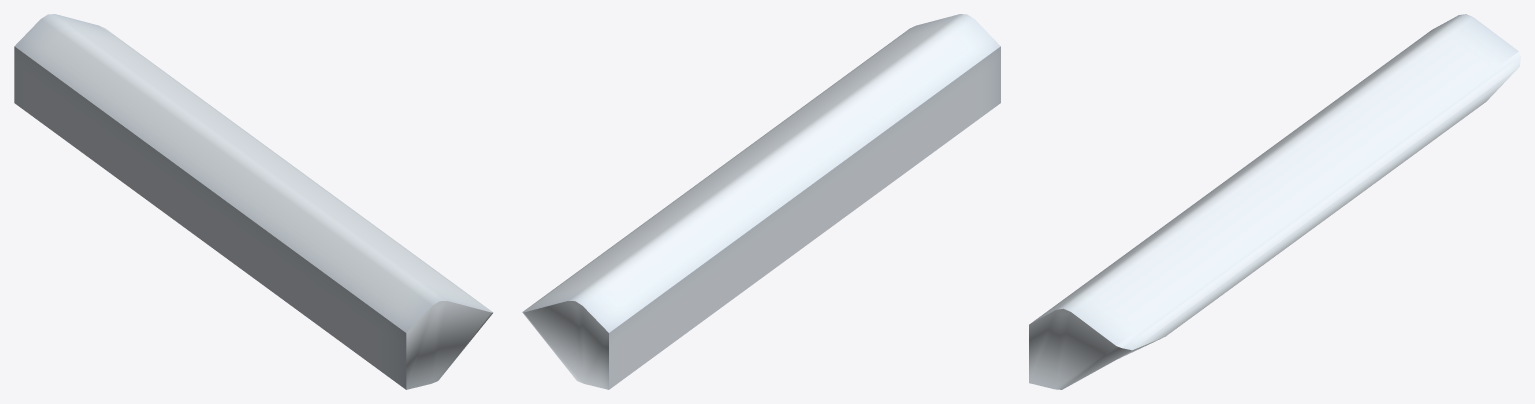
The model's file is lampbed.fbx.
3 renders of one model, left to right at view 1: azimuth 30°, elevation 25°; view 2: azimuth 150°, elevation 25°; view 3: azimuth 330°, elevation 25°, orthographic. The views are drawn at different scales.
Parts seen in each view (by area): view 1: lampbed; view 2: lampbed; view 3: lampbed.
Boxes of the visible parts, x1,y1,x2,y2 form: lampbed: (14,14,493,389); lampbed: (522,14,1000,389); lampbed: (1029,14,1520,389).
Bounding box in the file's own units: 24.97 × 20.64 × 182.
1 material, 1 textured.
